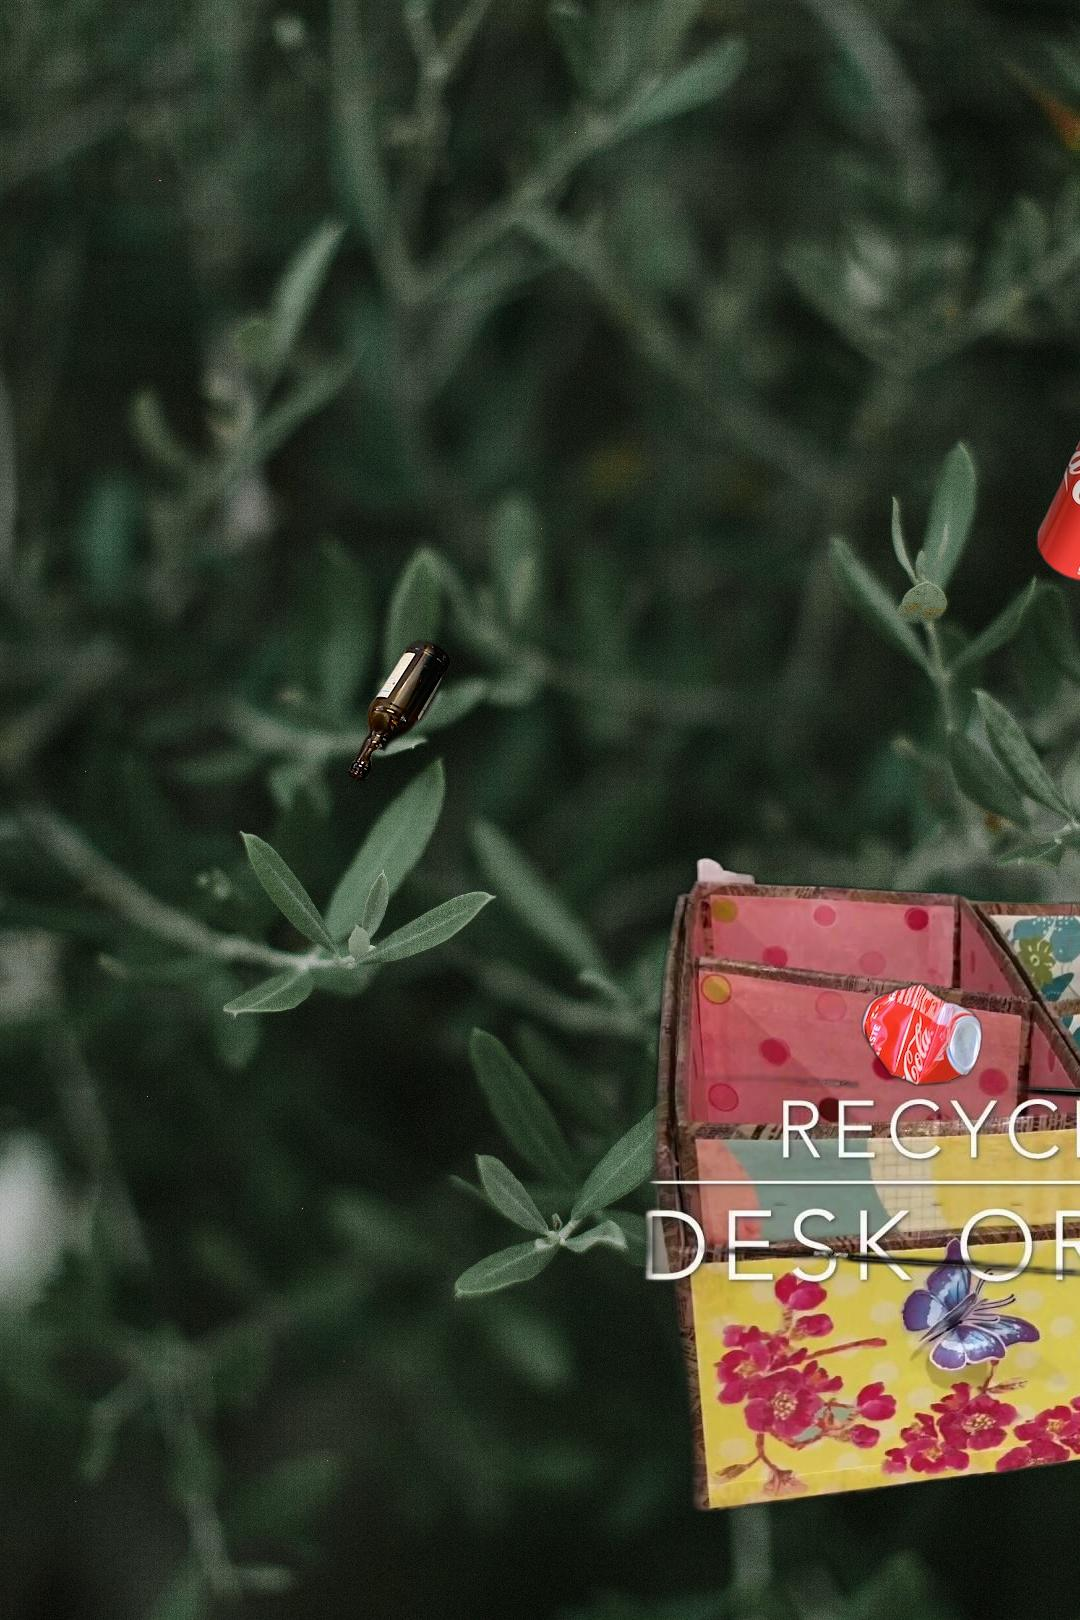battery: (712, 1331, 810, 1463)
glass: (342, 635, 454, 796)
metal-cans: (694, 927, 1080, 1367), (1032, 341, 1080, 589)
trashbox-cardboard: (632, 852, 1080, 1518)
